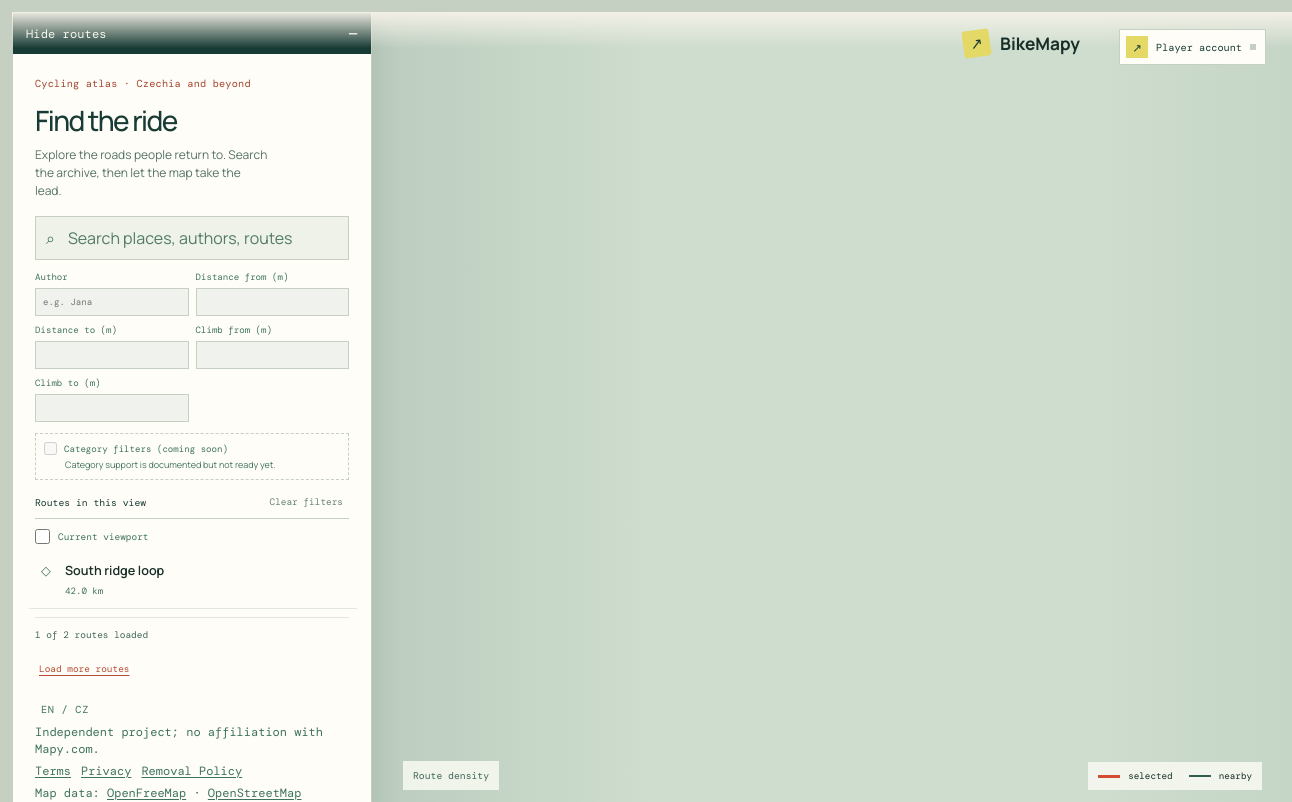
Scenario: BikeMapy route discovery › aborts an in-flight pagination request when the catalogue unmounts
Click the button "Load more routes" at {"x": 84, "y": 669}, box x1=35 y1=649 x2=134 y2=689
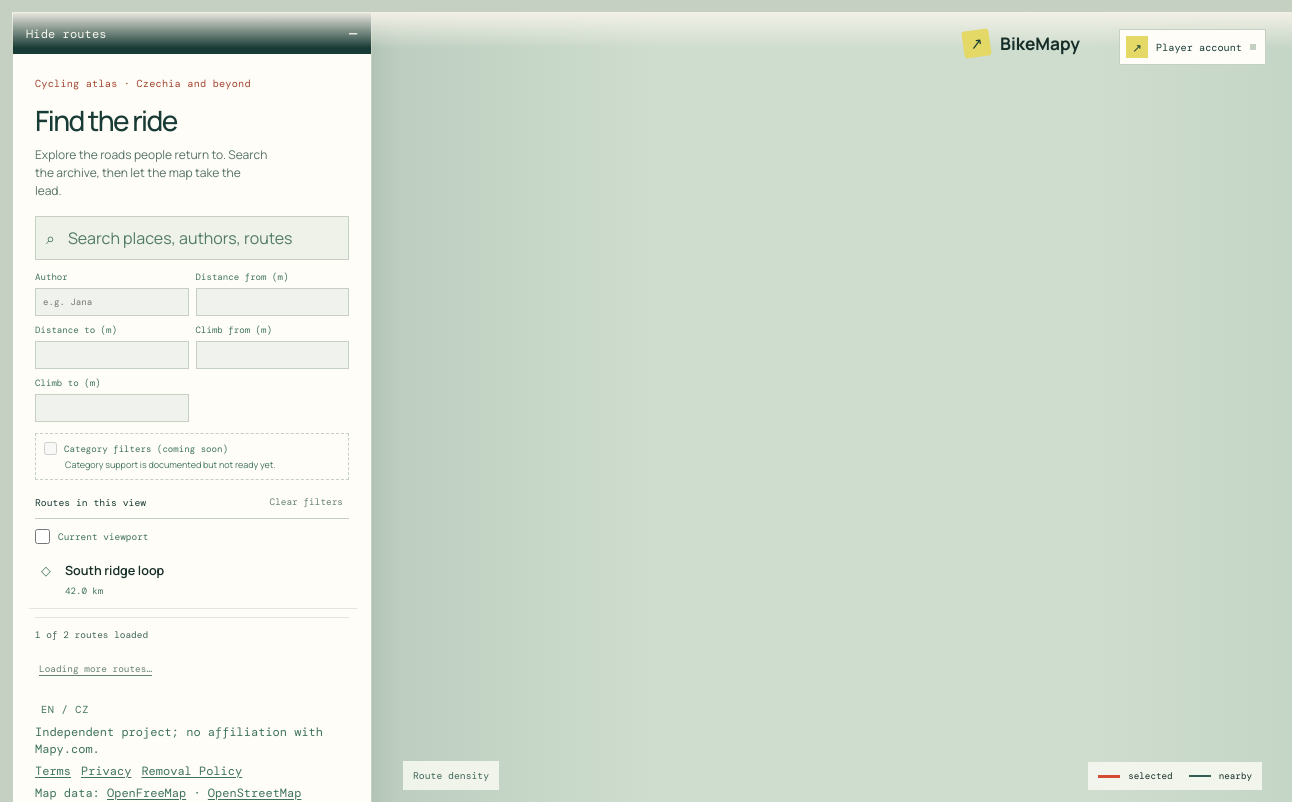
Expected: the button "Loading more routes…" is shown, x1=35 y1=649 x2=156 y2=689
